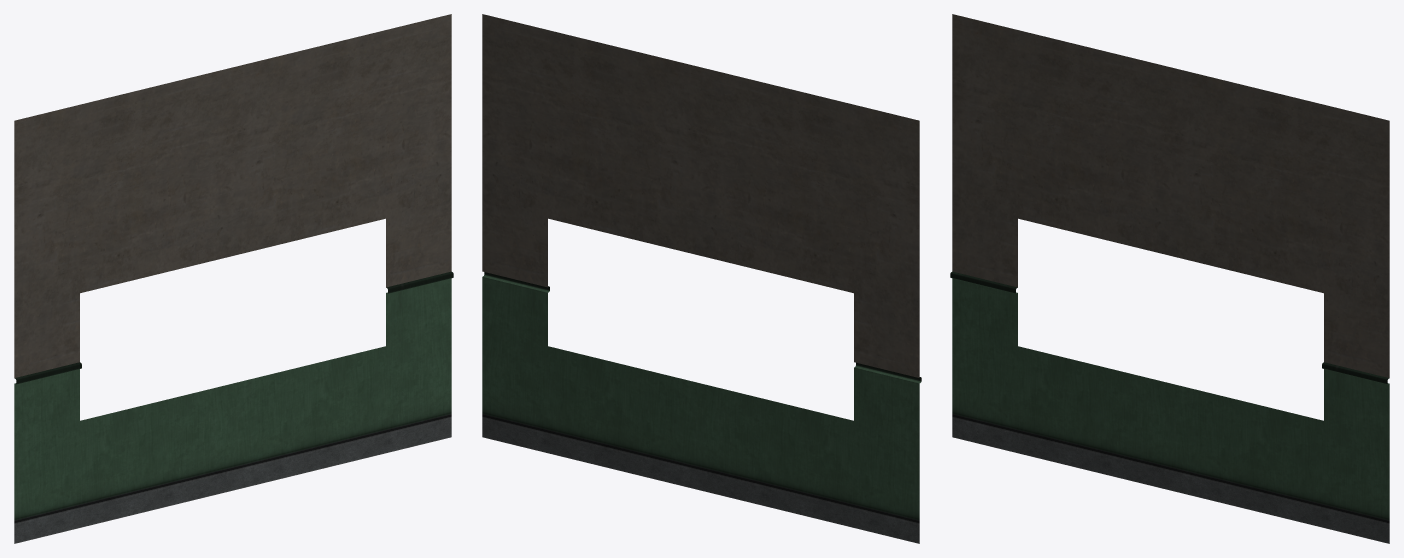
File: Psychiatric_Ward_Infirmary_Wall_4m_Window_Bare.glb
3 renders of one model, left to right at view 1: azimuth 30°, elevation 25°; view 2: azimuth 150°, elevation 25°; view 3: azimuth 330°, elevation 25°, orthographic.
Visible parts, largest first — view 1: Psychiatric_Ward_Infirmary_Wall_4m_Window_Bare; view 2: Psychiatric_Ward_Infirmary_Wall_4m_Window_Bare; view 3: Psychiatric_Ward_Infirmary_Wall_4m_Window_Bare.
Part boxes in pixels (x1,y1,x2,y2): Psychiatric_Ward_Infirmary_Wall_4m_Window_Bare: [14, 14, 453, 543]; Psychiatric_Ward_Infirmary_Wall_4m_Window_Bare: [482, 14, 921, 543]; Psychiatric_Ward_Infirmary_Wall_4m_Window_Bare: [950, 14, 1389, 543].
Size of the model in its own units: 4 by 3.7 by 0.03.
2 materials, 2 textured.
